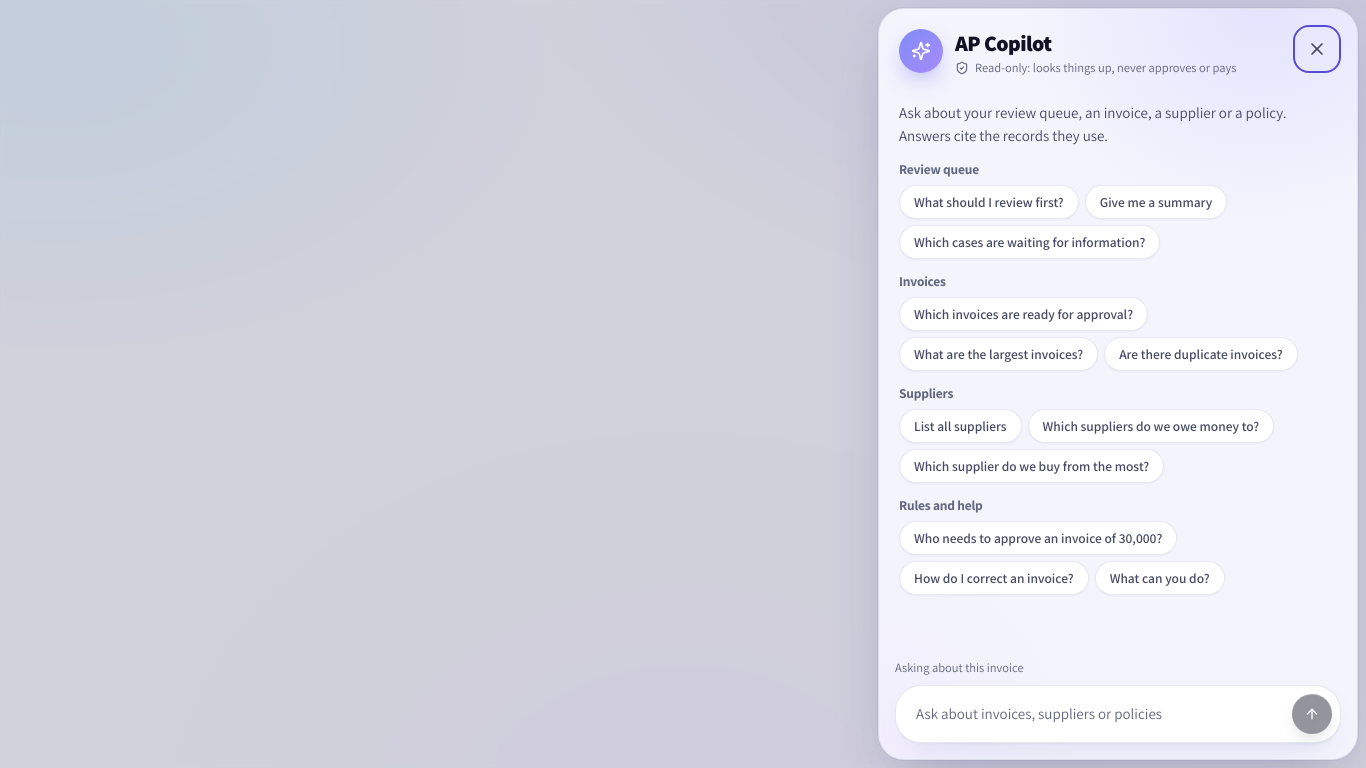
AP Copilot panel › reports a failed request without losing the question
Type "What should I review first?" into the text box labelled "Ask about invoices, suppliers or policies" at (1094, 714), box x1=904 y1=694 x2=1284 y2=734
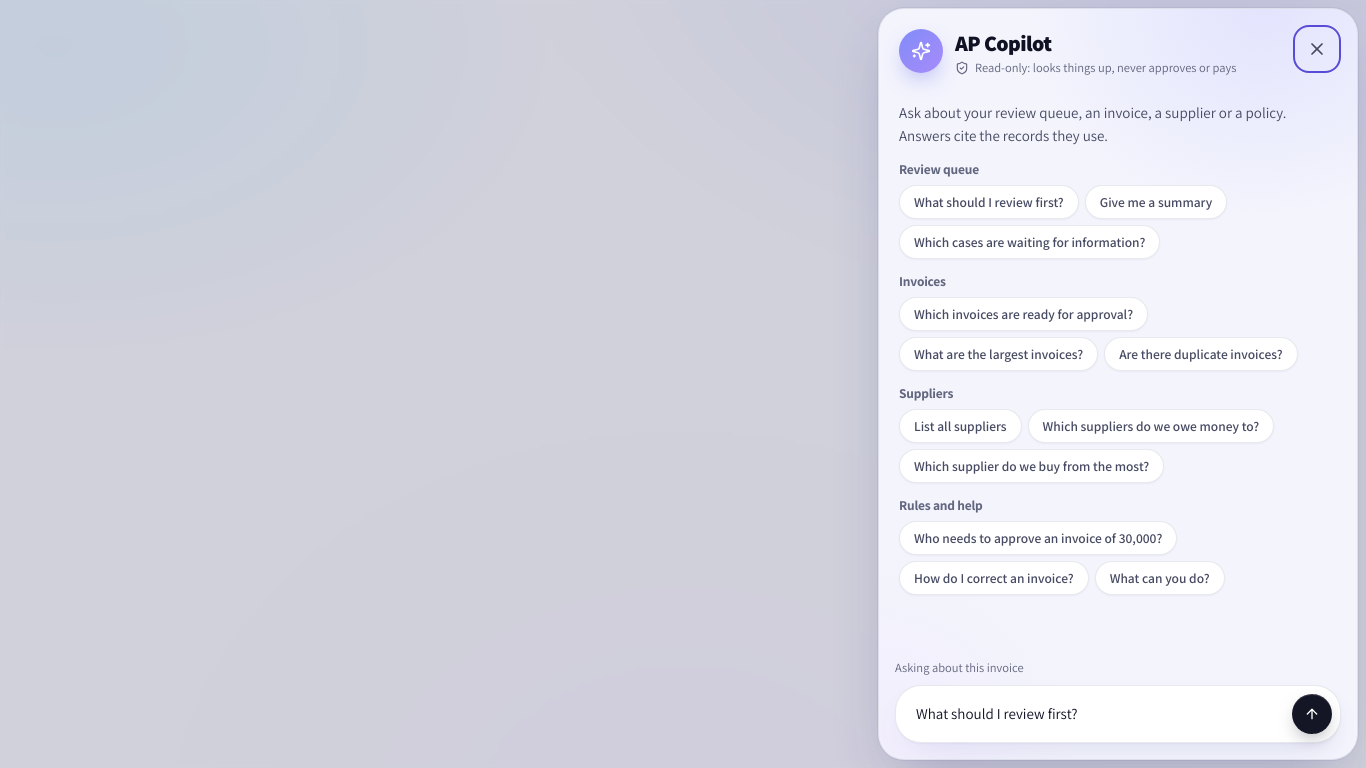
Press Enter in the text box named "Ask", box x1=904 y1=694 x2=1284 y2=734
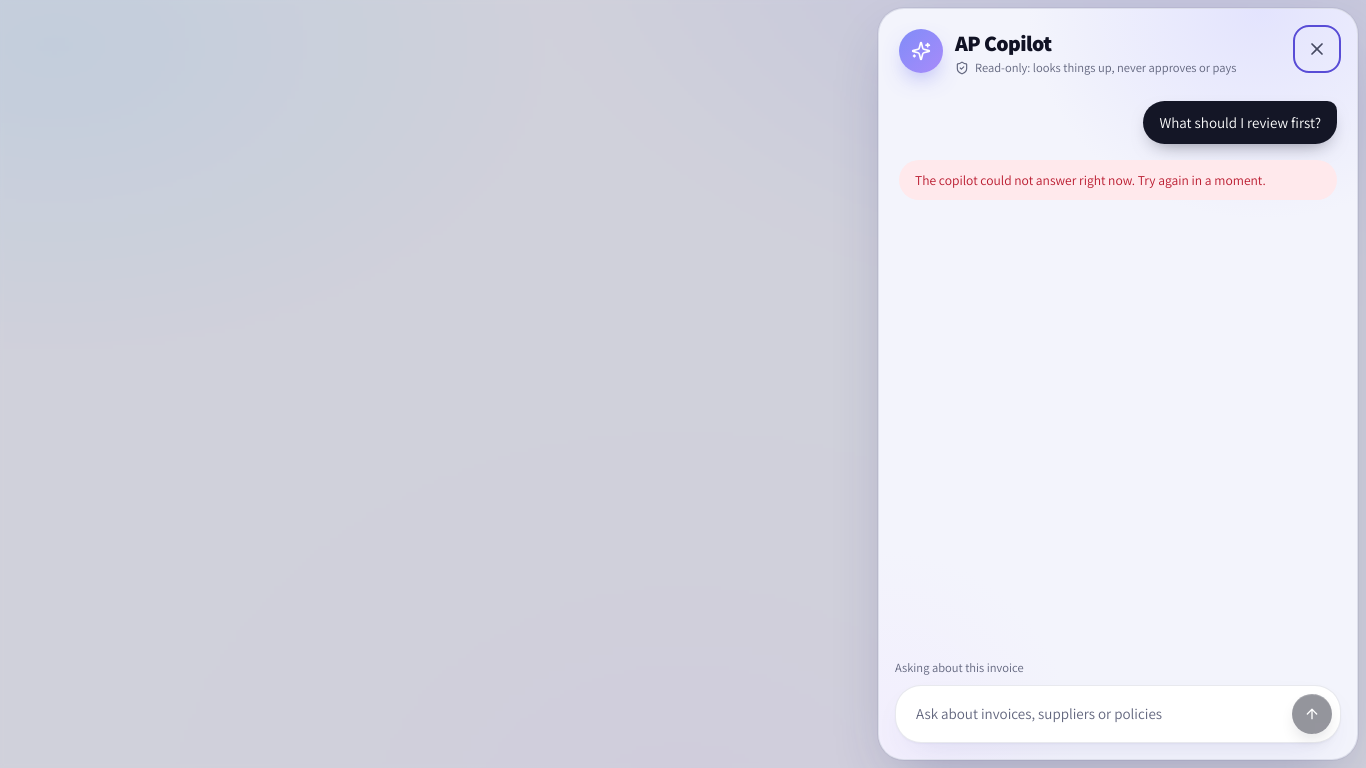
Check: the text "What should I review first?" is shown, box x1=1144 y1=101 x2=1337 y2=144
Check: the message "The copilot could not answer right now. Try again in a moment." is shown, box x1=899 y1=160 x2=1337 y2=200
